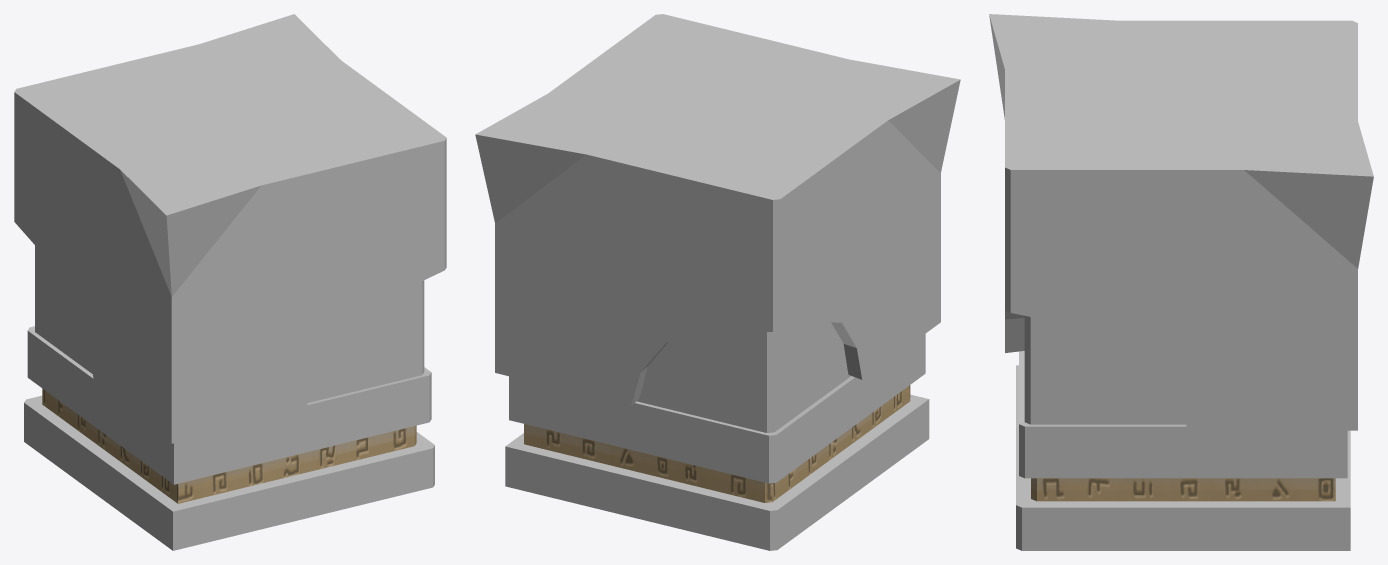
File: SM_Mod_Pillar_Top_01.fbx
The picture shows the model from 3 angles, left to right: view 1: azimuth 30°, elevation 25°; view 2: azimuth 150°, elevation 25°; view 3: azimuth 270°, elevation 25°; orthographic projection. The views are drawn at different scales.
Parts seen in each view (by area): view 1: SM_Mod_Pillar_Top_01; view 2: SM_Mod_Pillar_Top_01; view 3: SM_Mod_Pillar_Top_01.
Part boxes in pixels (<box>): SM_Mod_Pillar_Top_01: <box>14,14,446,550</box>; SM_Mod_Pillar_Top_01: <box>475,14,960,550</box>; SM_Mod_Pillar_Top_01: <box>989,14,1373,550</box>.
Bounding box in the file's own units: 1.05 × 1.16 × 1.05.
